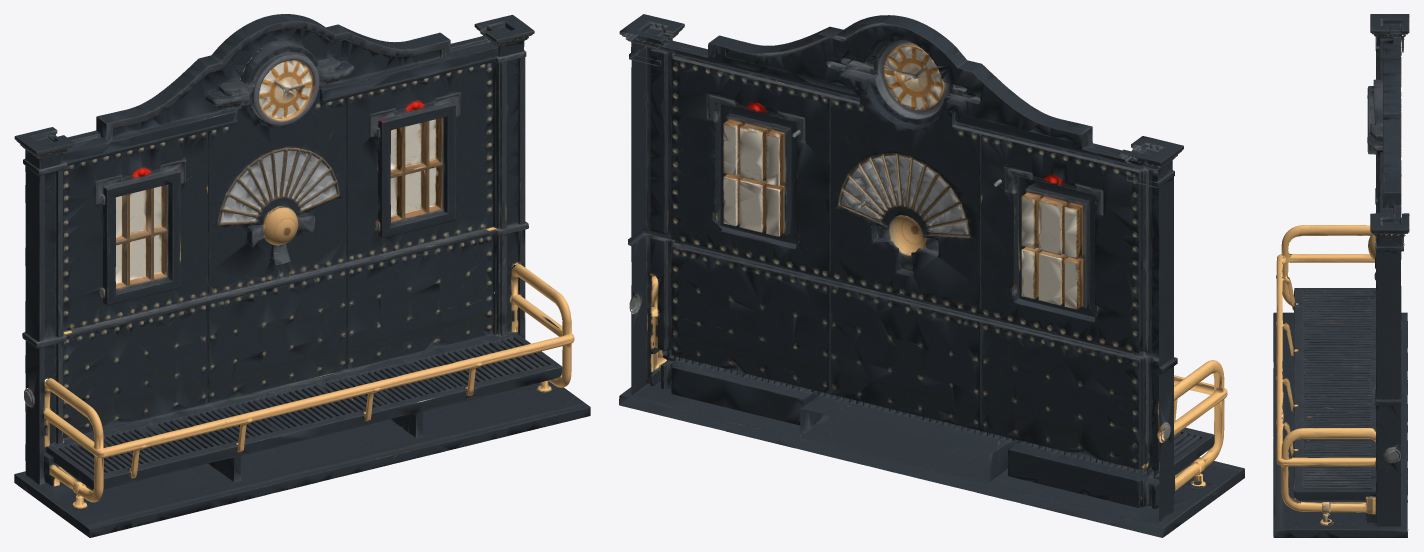
File: vault_bay.glb
3 views of the same model, side by side, from view 1: azimuth 30°, elevation 25°; view 2: azimuth 150°, elevation 25°; view 3: azimuth 270°, elevation 25° (orthographic). The views are drawn at different scales.
Bounding box in the file's own units: 1.9 × 1.48 × 0.5037.
1 material, 1 textured.
